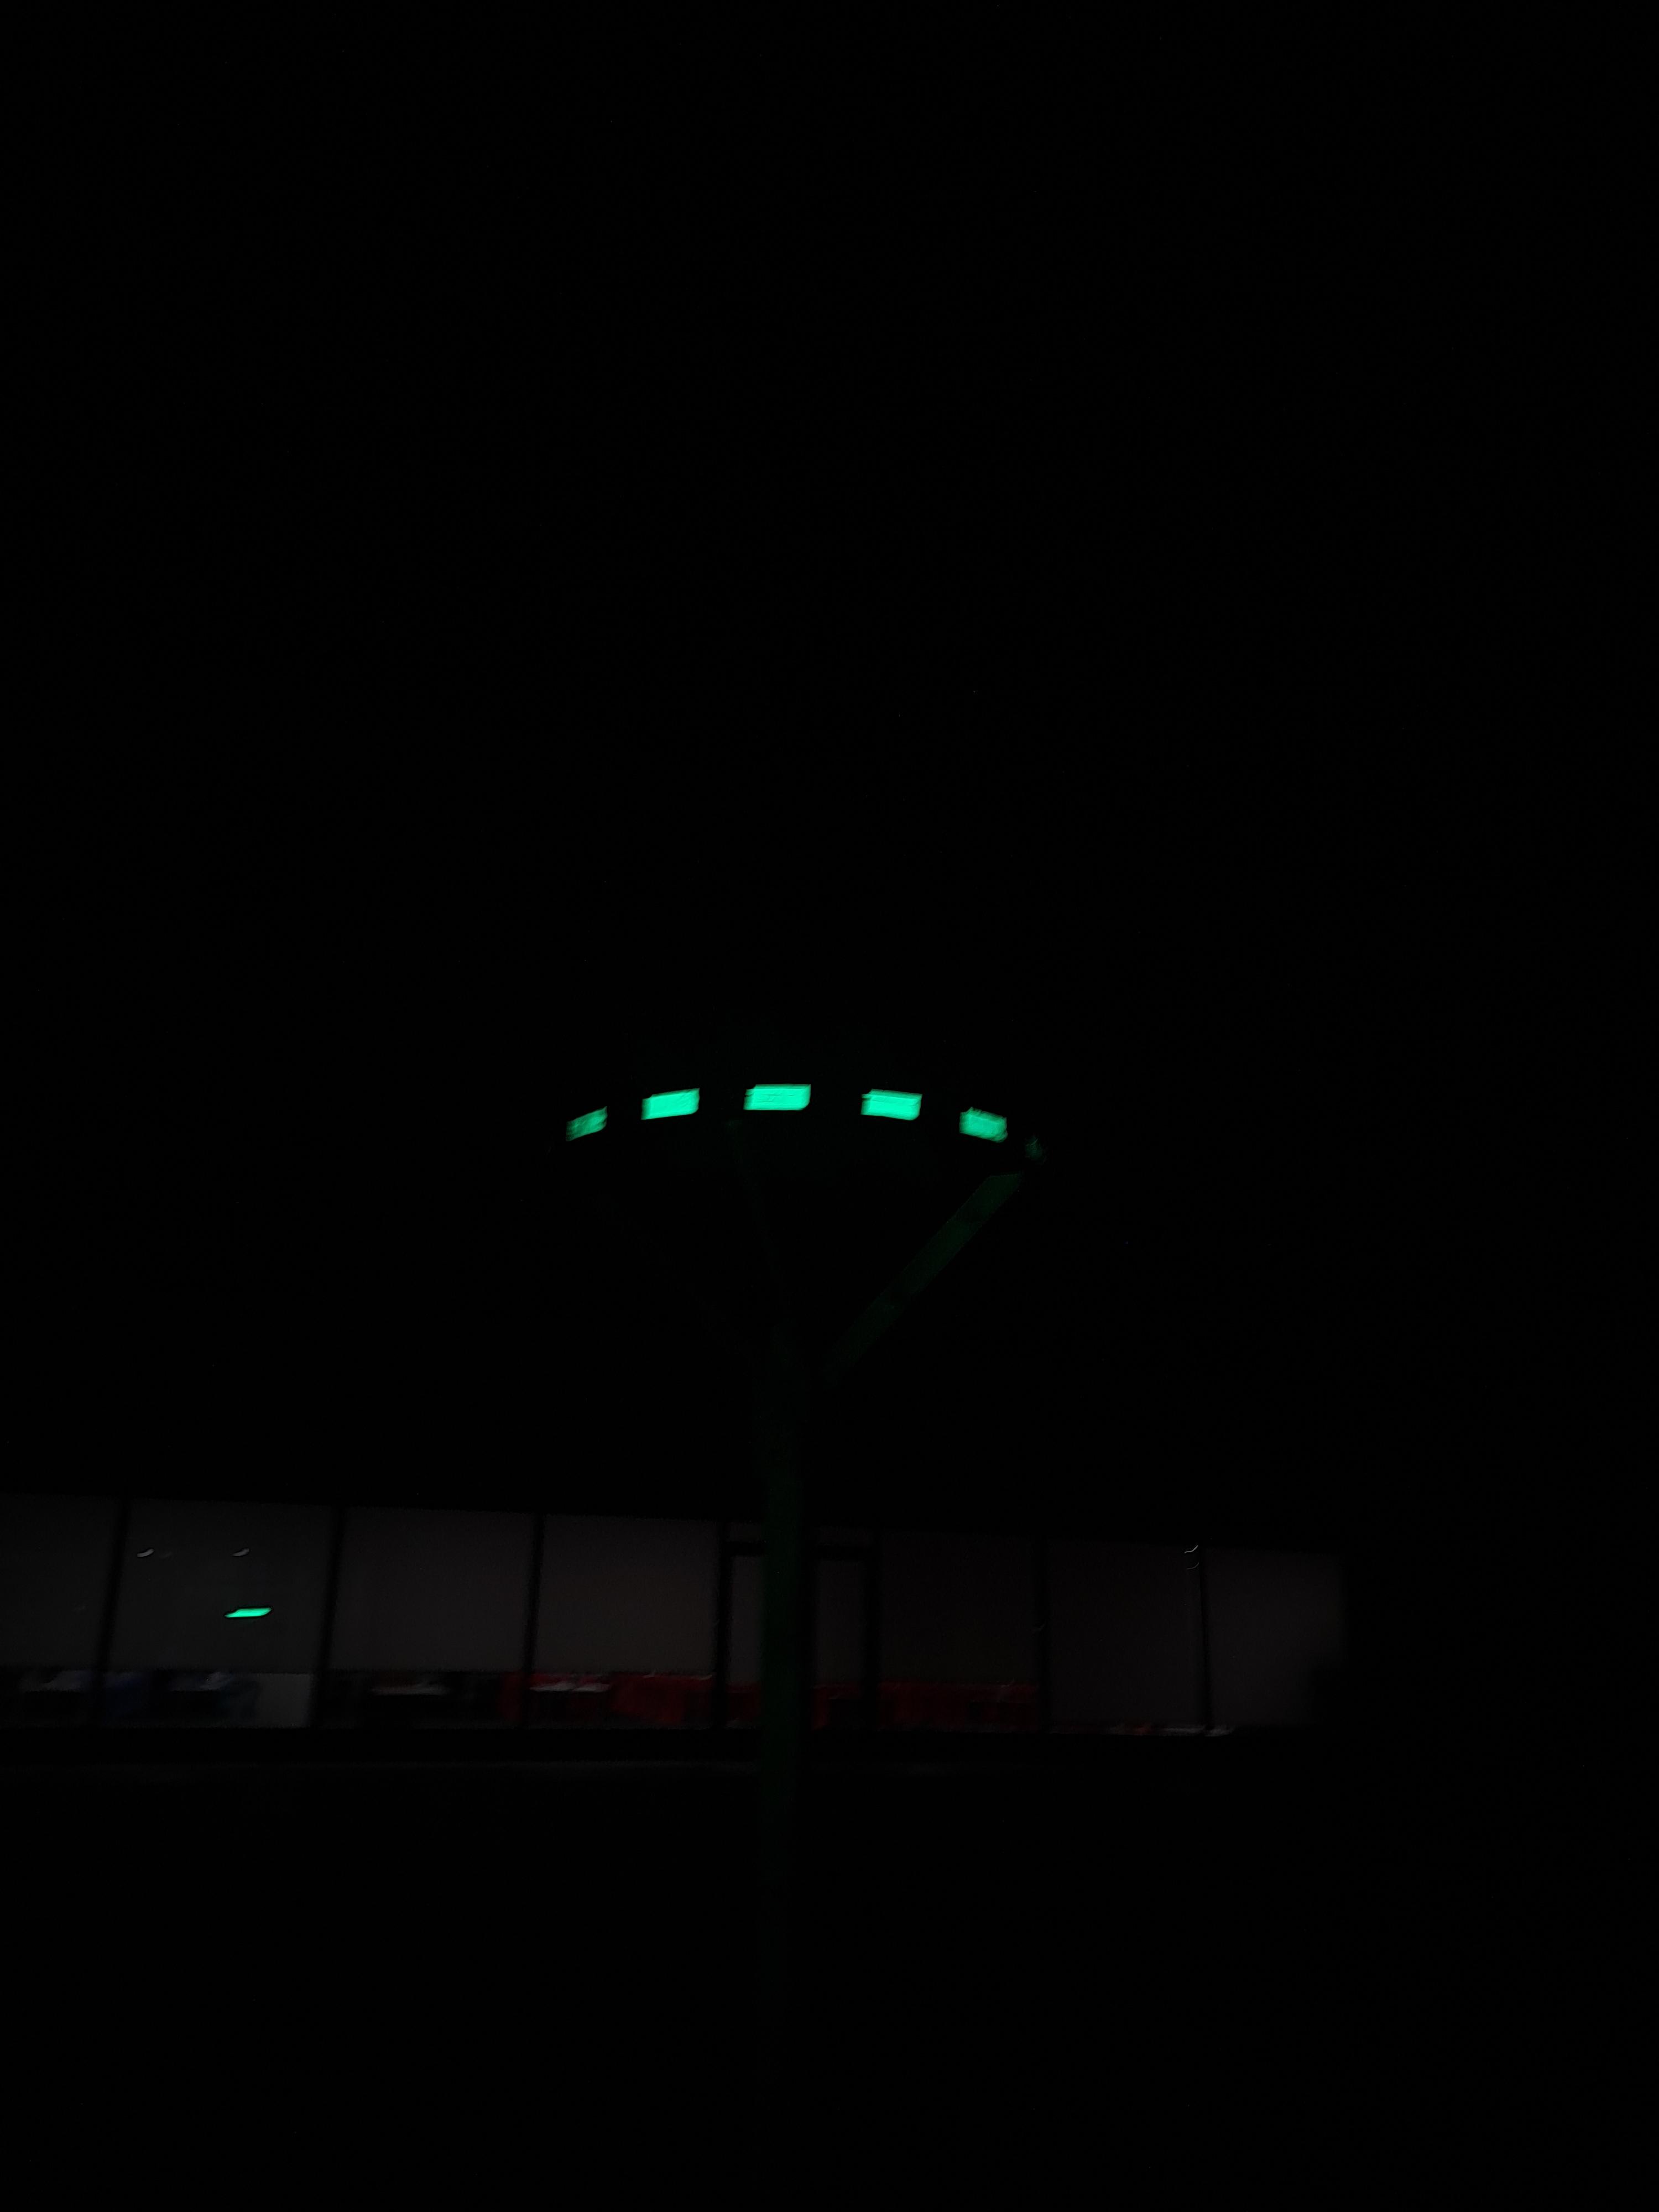hoop: (559, 1076, 1012, 1160)
